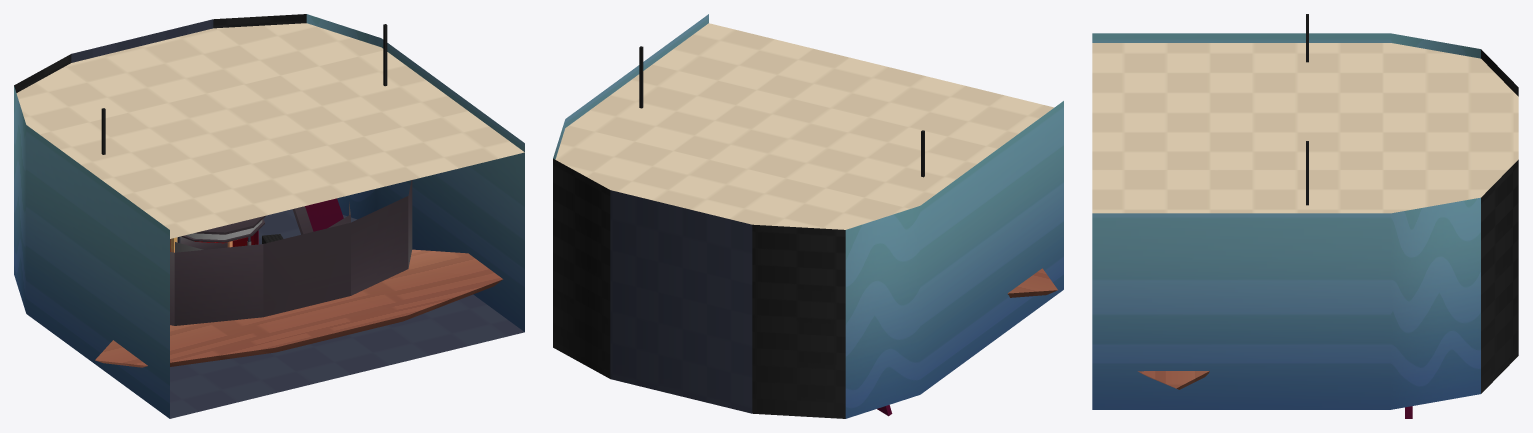
The model's file is Stadium.fbx.
3 renders of one model, left to right at view 1: azimuth 30°, elevation 25°; view 2: azimuth 150°, elevation 25°; view 3: azimuth 270°, elevation 25°, orthographic. The views are drawn at different scales.
Parts seen in each view (by area): view 1: Celling, Room, BigCrowd, Stadium, Arch2, pasted__pCylinder4, Sign; view 2: Room, Celling, Stadium, Sign; view 3: Room, Celling, Stadium.
Boxes of the visible parts, bbox=[...] form: Celling: bbox=[16, 23, 524, 238]; Room: bbox=[14, 14, 524, 418]; BigCrowd: bbox=[170, 180, 412, 325]; Stadium: bbox=[95, 249, 502, 367]; Arch2: bbox=[305, 198, 343, 231]; pasted__pCylinder4: bbox=[181, 215, 265, 243]; Sign: bbox=[101, 24, 387, 154]; Room: bbox=[553, 14, 1063, 418]; Celling: bbox=[555, 23, 1053, 229]; Stadium: bbox=[1007, 268, 1057, 297]; Sign: bbox=[639, 46, 924, 177]; Room: bbox=[1092, 33, 1518, 409]; Celling: bbox=[1092, 43, 1518, 213]; Stadium: bbox=[1138, 371, 1209, 389].
Bounding box in the file's own units: 88.04 × 51.48 × 73.68.
Materials: 2 (1 with a texture image).
